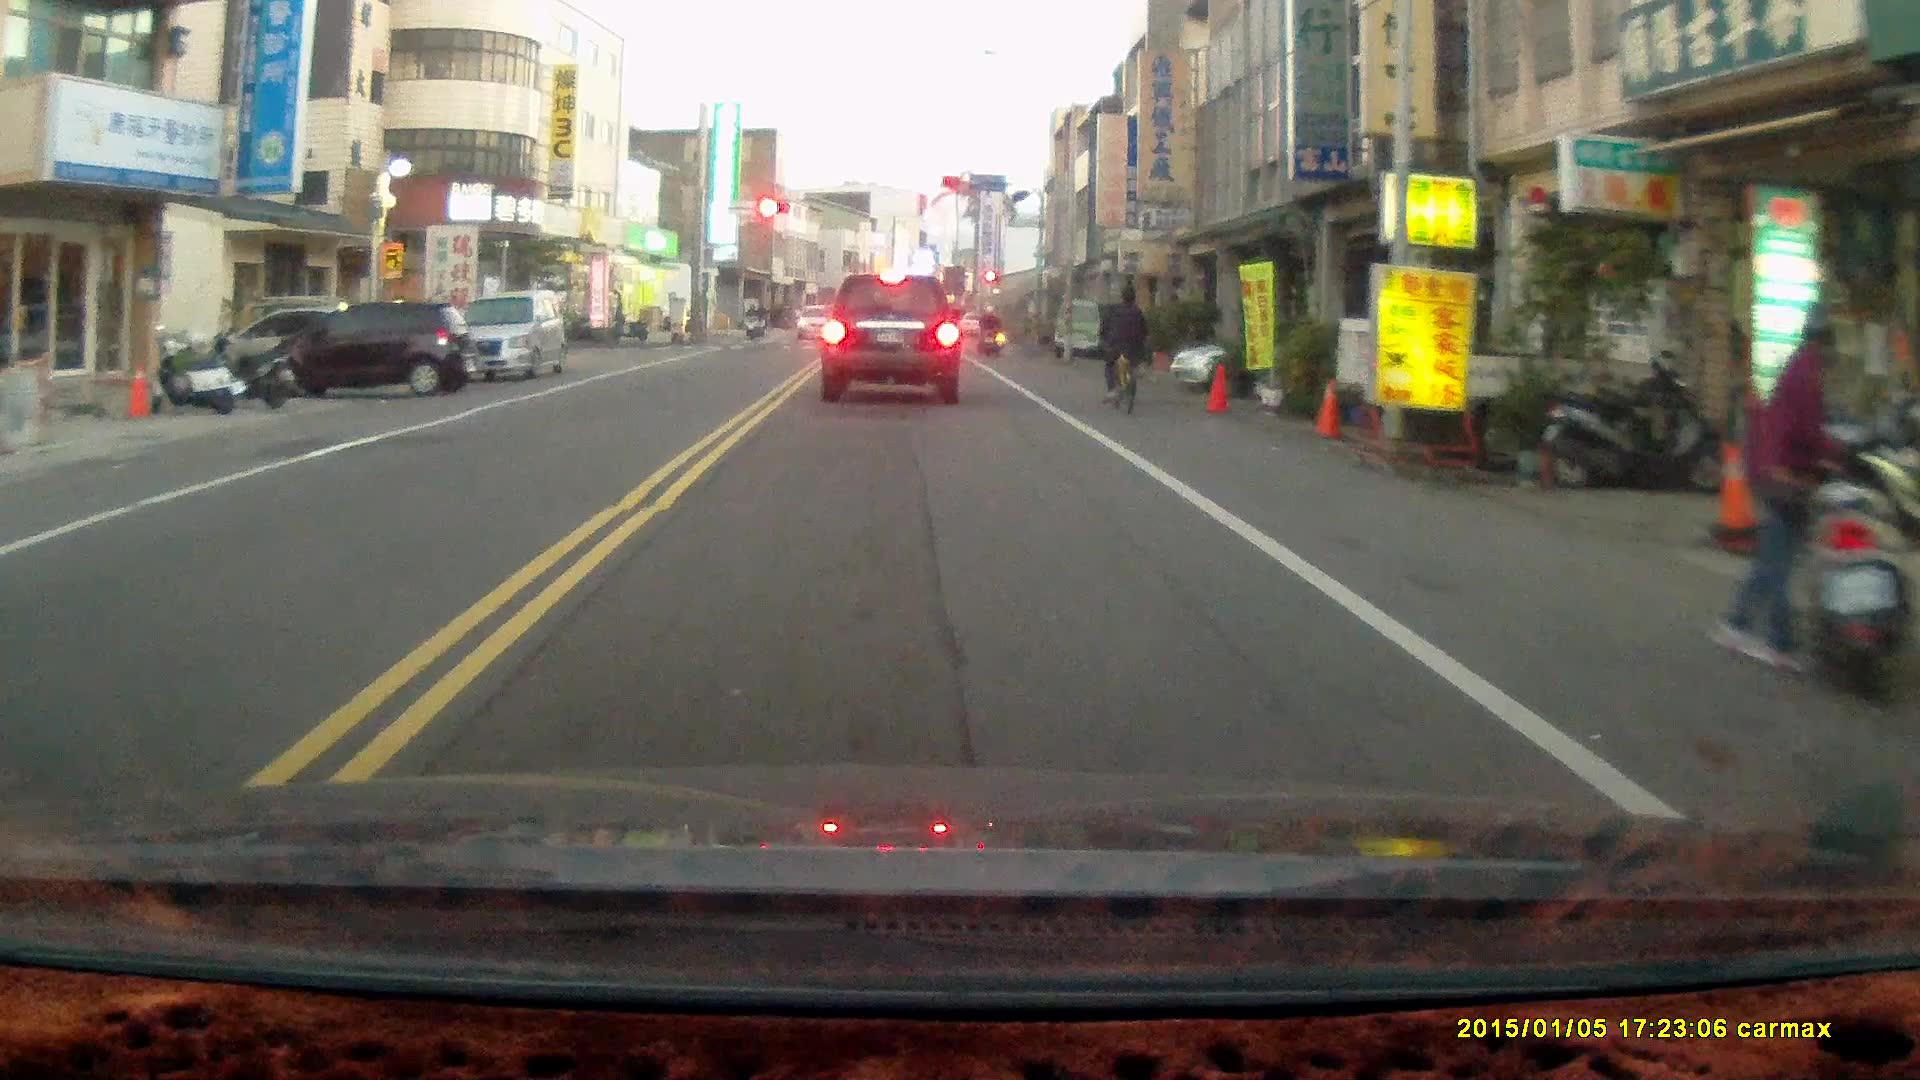pedestrian: (1710, 300, 1842, 680)
rider: (1097, 279, 1150, 414), (974, 300, 998, 354), (741, 301, 763, 342)
vehicle: (260, 299, 474, 403), (818, 271, 966, 408), (1167, 321, 1406, 395), (438, 284, 569, 385)
